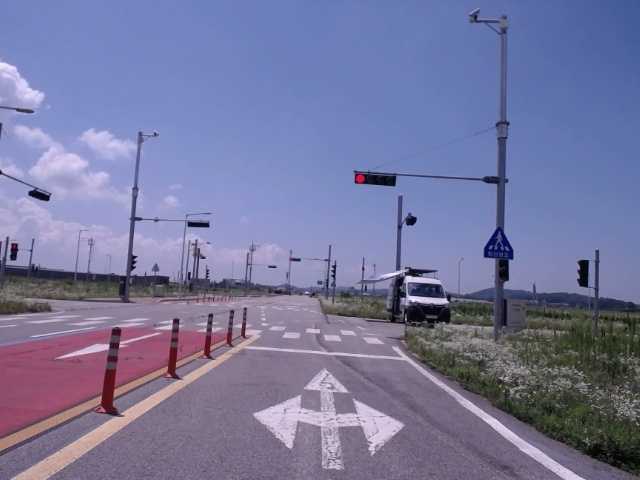red_4: (355, 173, 396, 186)
